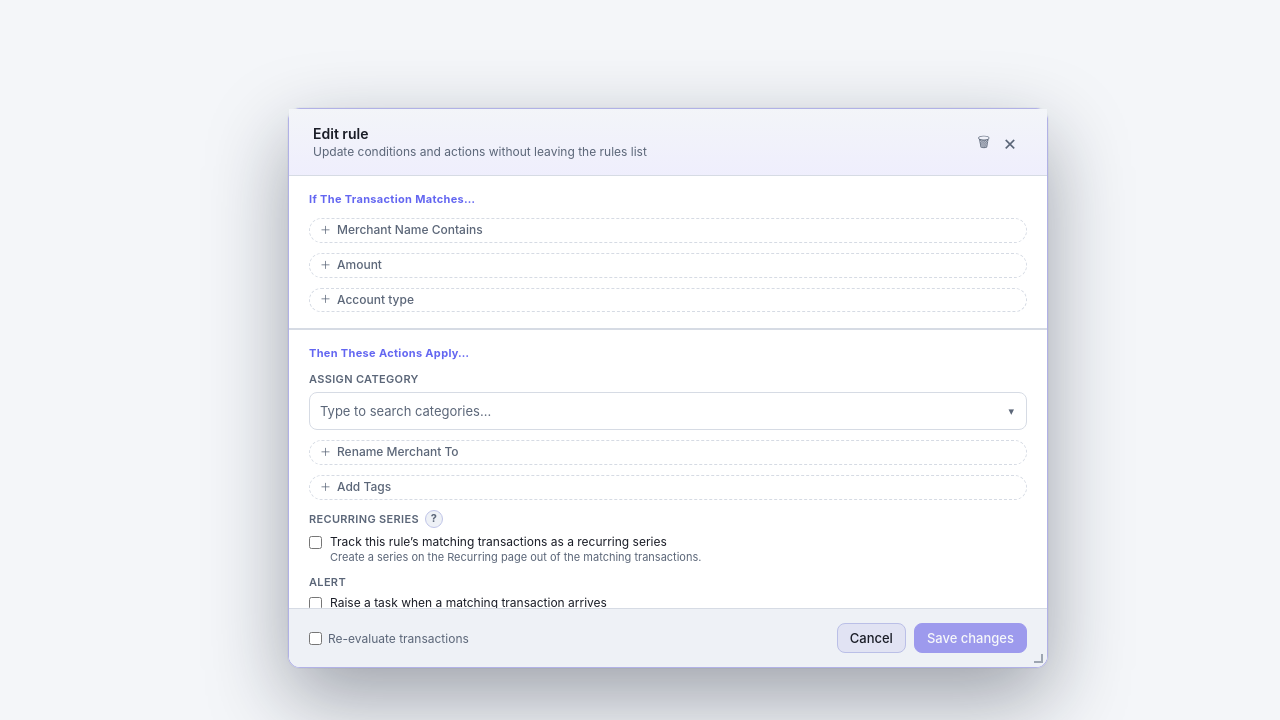
Scenario: the rule editor header › says where a deleted rule goes, since it is recoverable
Click the button named "Delete this rule". click: (984, 142)
box: [970,131,997,153]
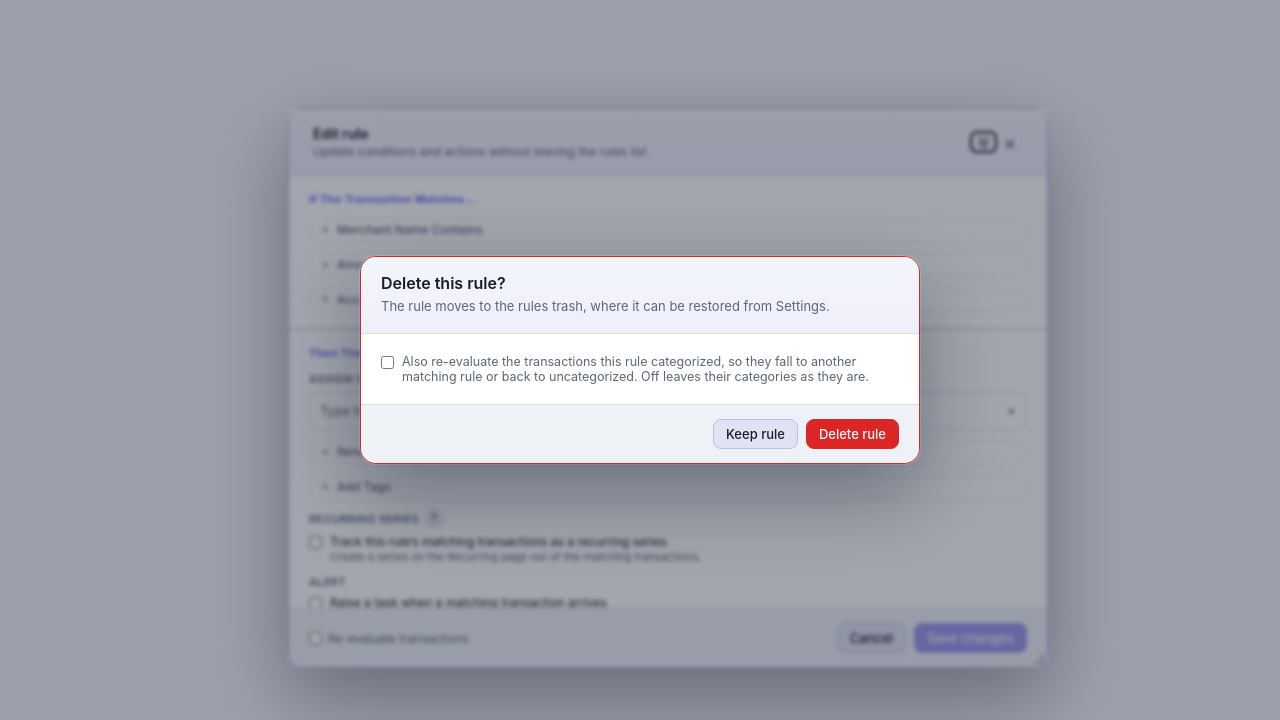
Expected: the text "rules trash" is shown, [381,298,830,314]
